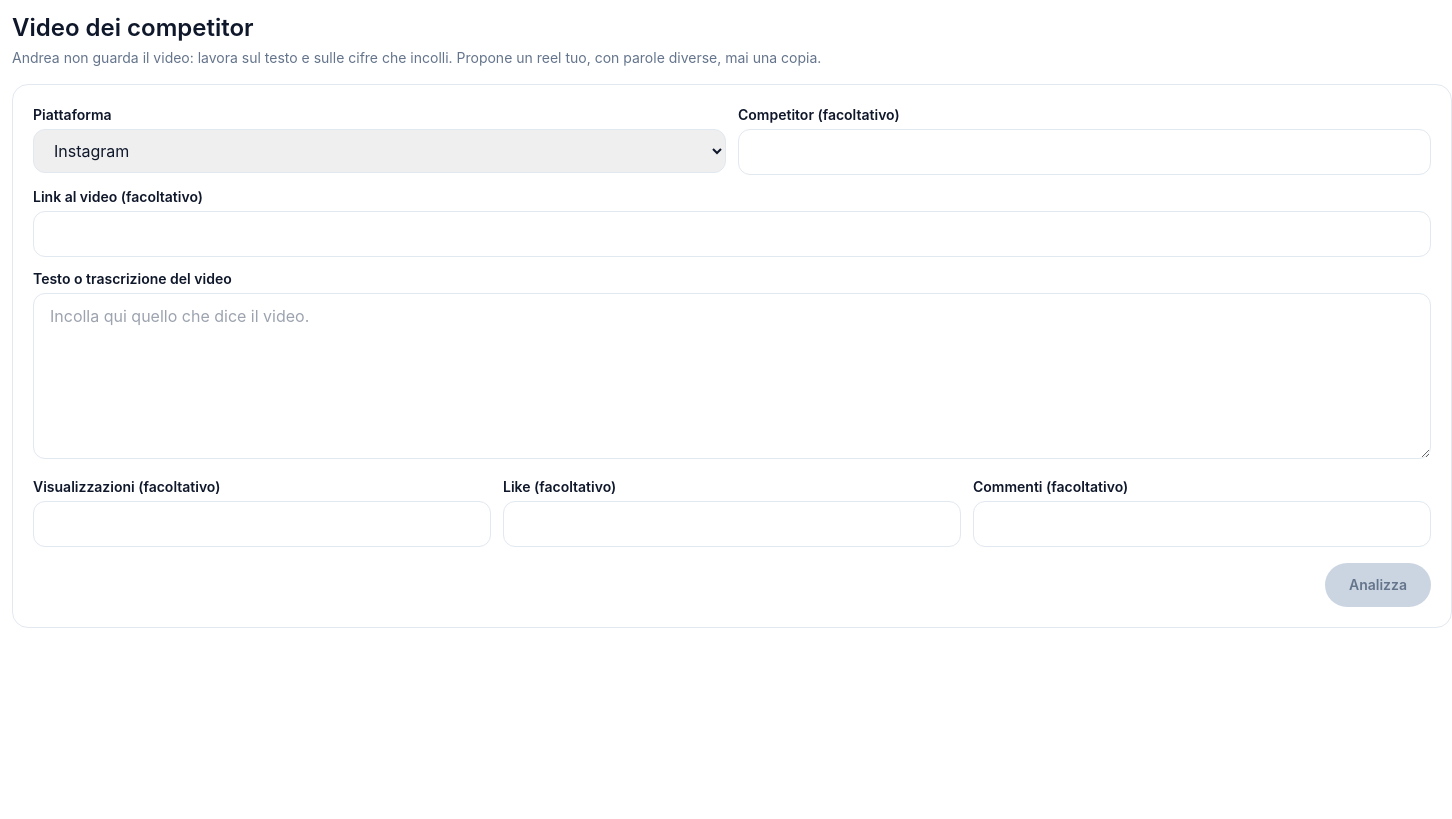
Test: «Analizza» è spento col testo corto; poi manda i dati e mostra analisi, ipotesi ed il tasso calcolato
This screenshot has width=1452, height=819.
Expected: the button "Analizza" is disabled, [1325,563,1431,607]
Type "Smetti di fare corsi che nessuno finisce. Ecco perche' i tuoi clienti mollano a meta'." into the text box labelled "Testo o trascrizione del video" at [732, 376], box [33,293,1431,459]
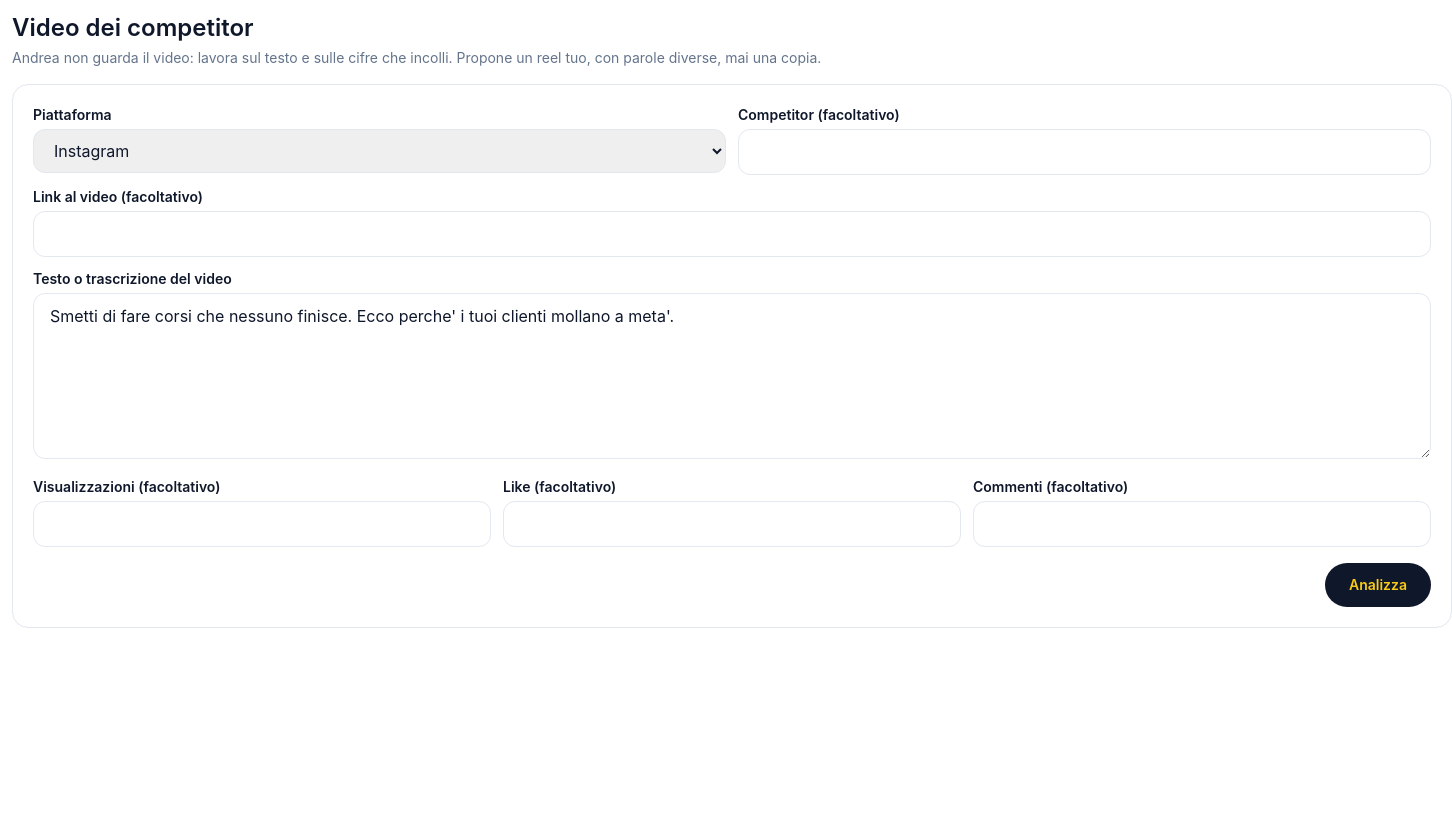
Type "10000" into the field labelled "Visualizzazioni (facoltativo)" at [262, 524], box [33,501,491,547]
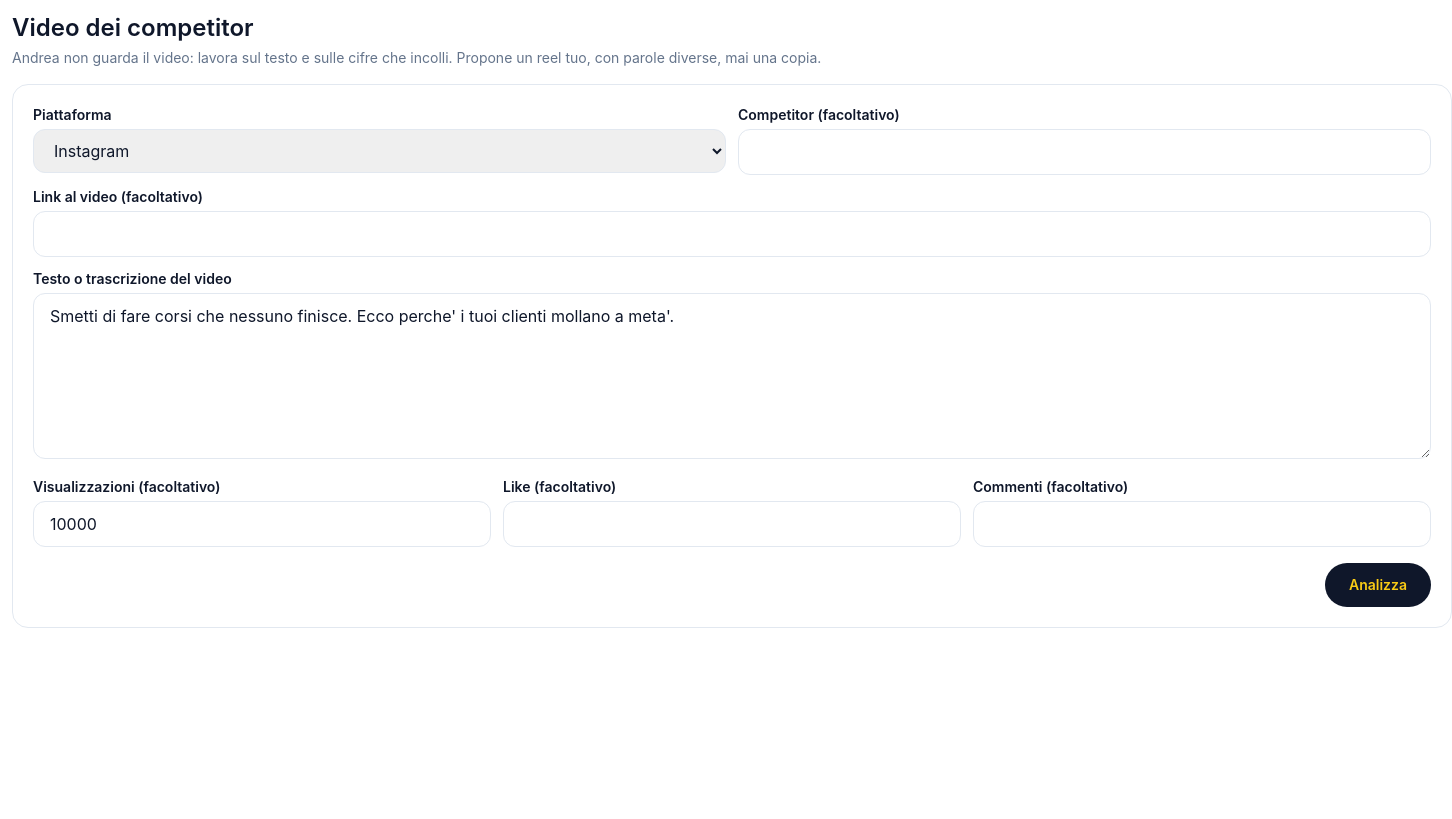
Click the button "Analizza" at [1378, 585], box [1325,563,1431,607]
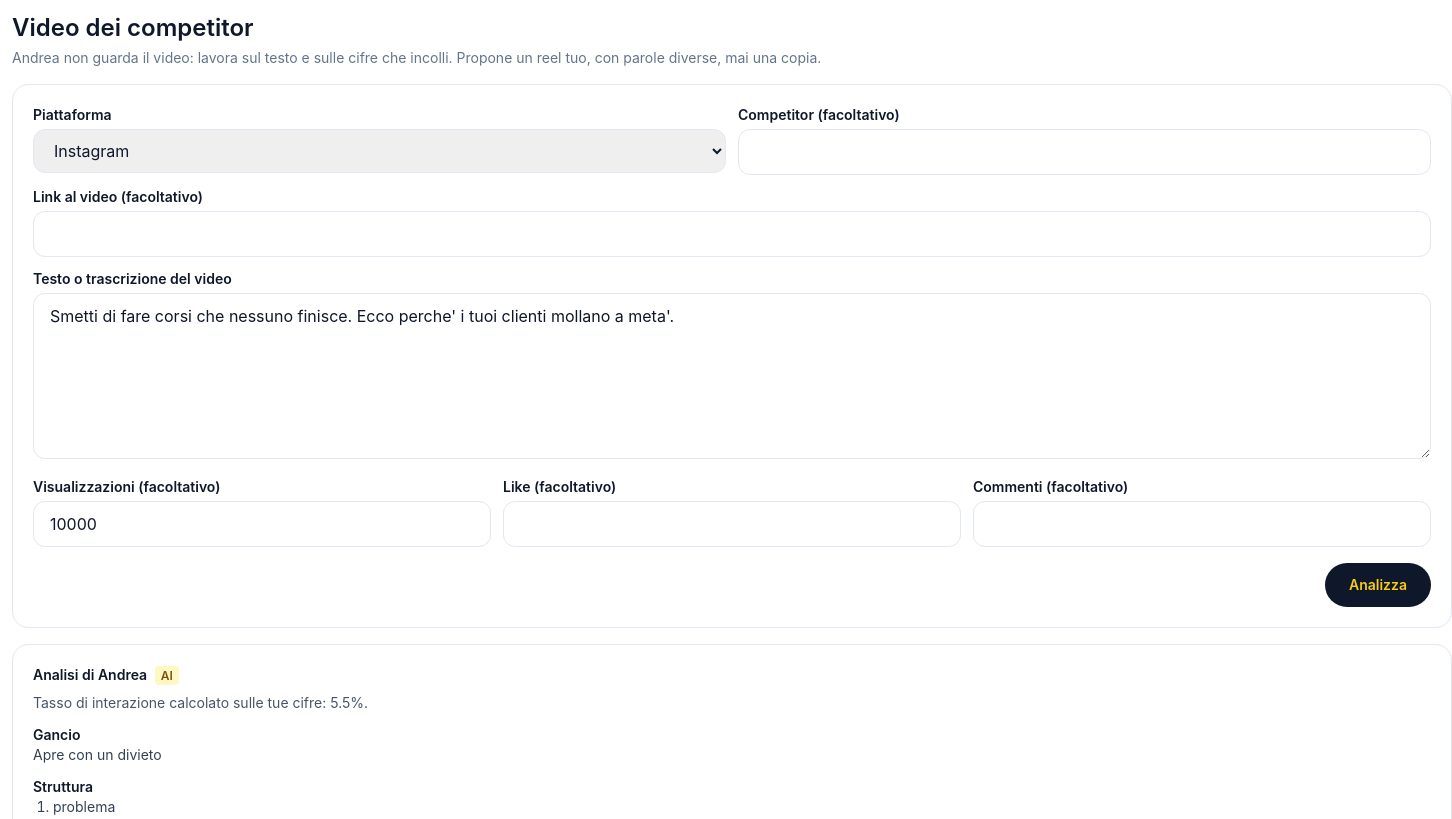
Expected: the text "Apre con un divieto" is shown, [33,746,162,763]
Expected: the text "Tasso di interazione calcolato sulle tue cifre: 5.5%." is shown, [33,694,368,711]
